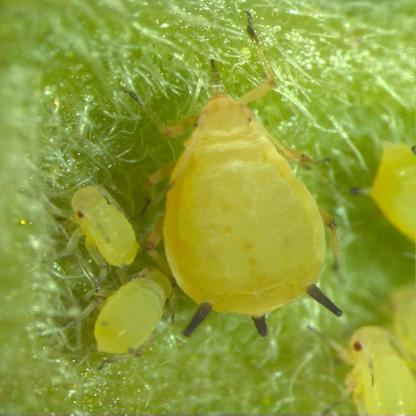aphid: (121, 39, 360, 337), (74, 259, 189, 359), (325, 321, 416, 415), (58, 174, 141, 275), (360, 140, 416, 240)
